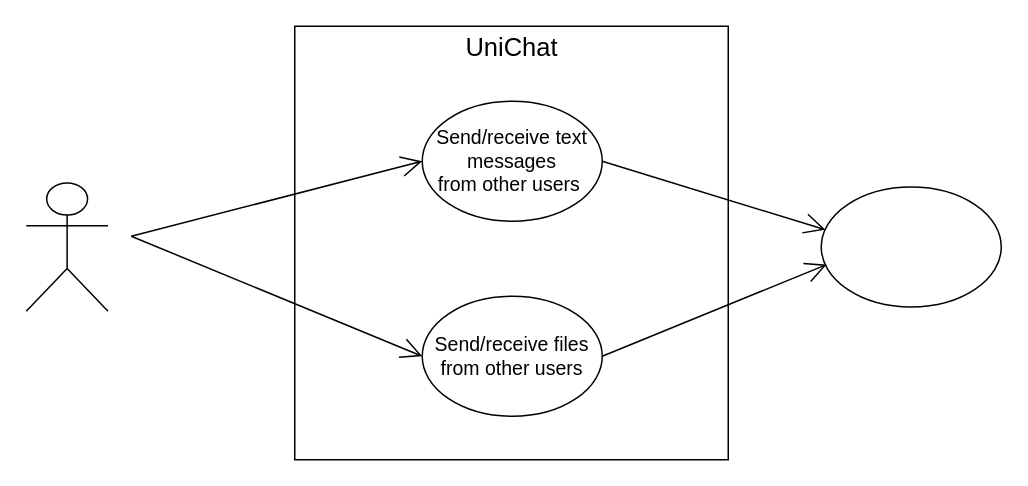
The diagram is 1028 pixels wide and 486 high, and some of its shapes have lost their labels. The centre of each missing label's shape, as x and y in pixels:
"FireBase API" goes at [910,246].
"User" goes at [66,246].
